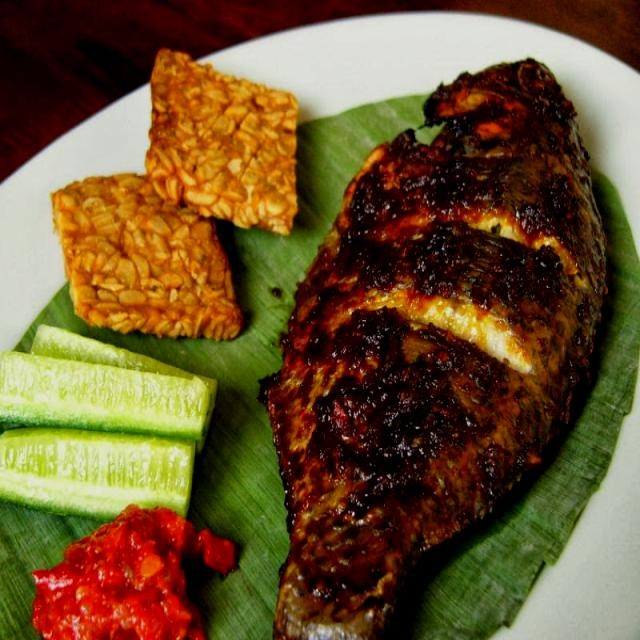ikan bakar: (260, 59, 609, 640)
tempe goreng: (50, 174, 246, 343), (143, 50, 300, 238)
